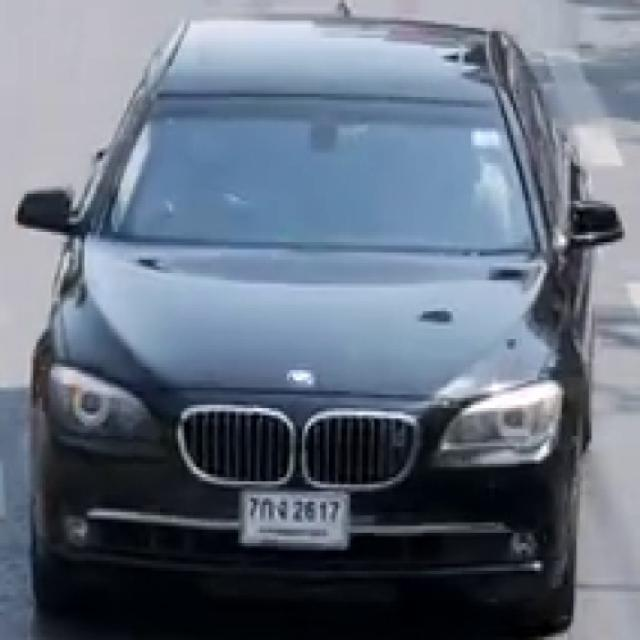plate: (241, 489, 350, 550)
